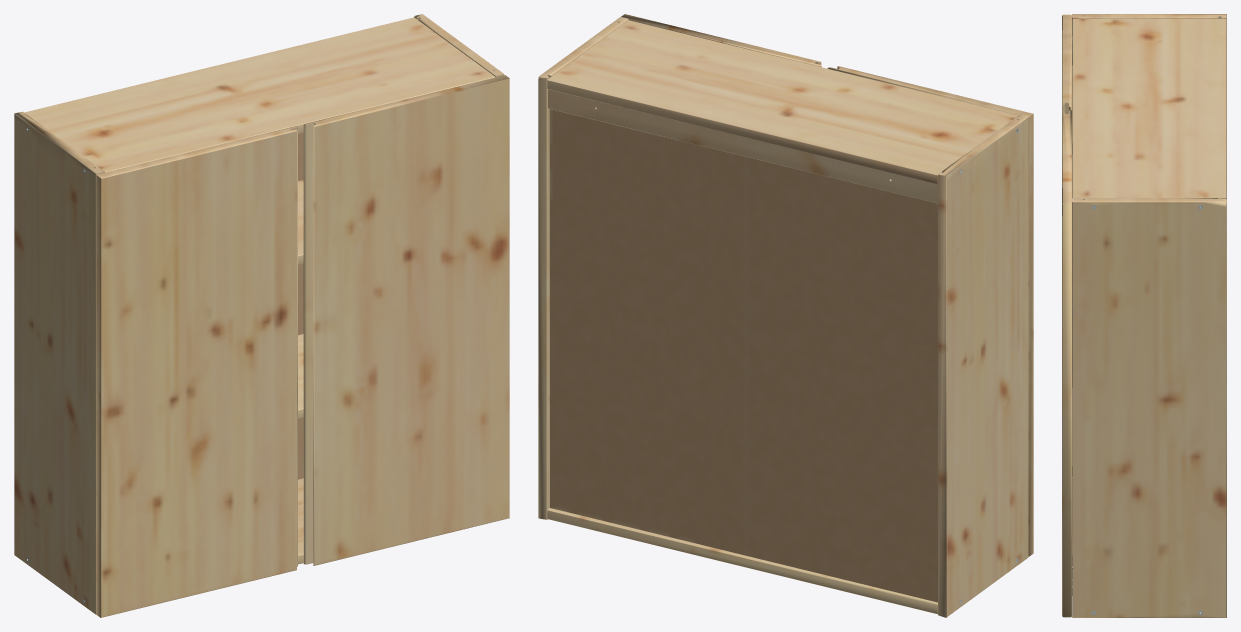
The model's file is 17 - IVAR Cabinet - pine 80x30x83 cm.glb.
The picture shows the model from 3 angles, left to right: view 1: azimuth 30°, elevation 25°; view 2: azimuth 150°, elevation 25°; view 3: azimuth 270°, elevation 25°; orthographic projection. The views are drawn at different scales.
Visible parts, largest first — view 1: 40033763-IVAR001; view 2: 40033763-IVAR001; view 3: 40033763-IVAR001.
Part boxes in pixels (left/top/right/bottom): 40033763-IVAR001: left=14, top=14, right=509, bottom=617; 40033763-IVAR001: left=538, top=14, right=1033, bottom=617; 40033763-IVAR001: left=1062, top=14, right=1226, bottom=617.
Size of the model in its own units: 0.8009 by 0.826 by 0.296.
Materials: 1 (1 with a texture image).
